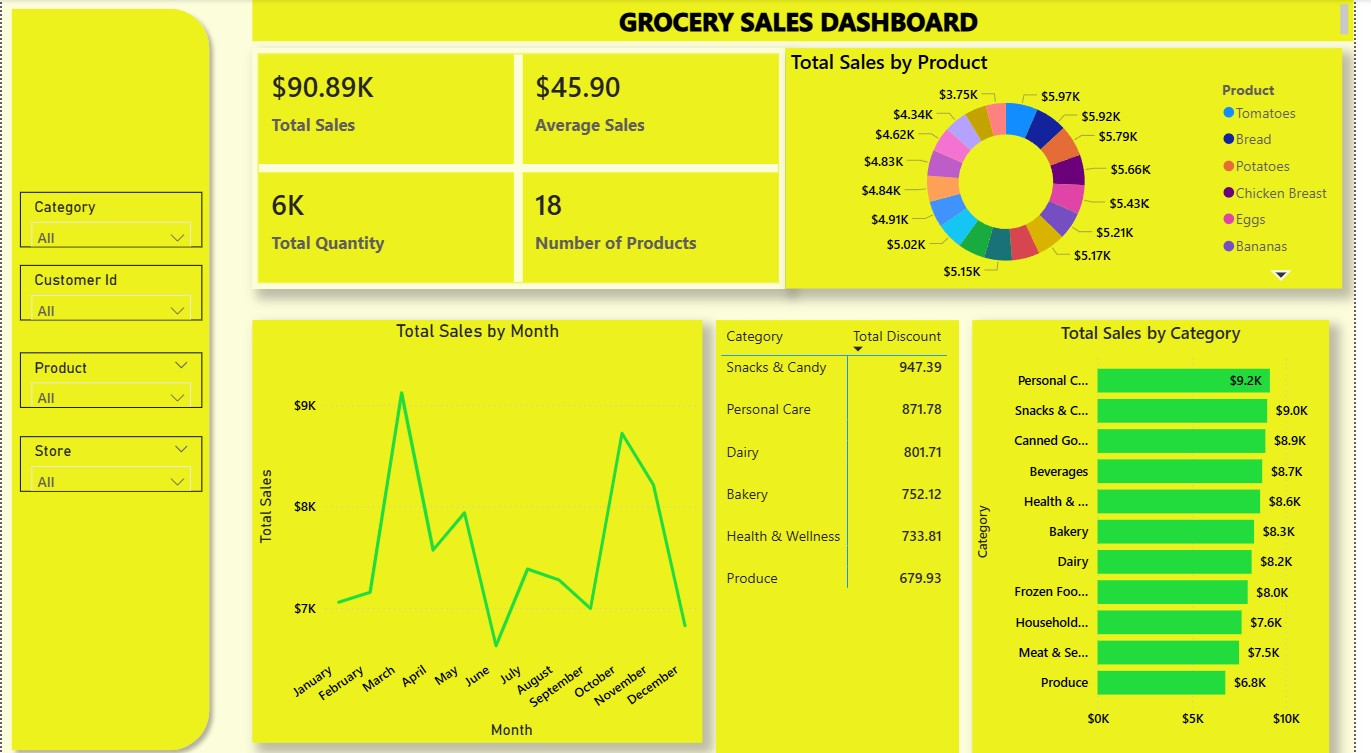

The dashboard page shown, as its layout file describes it:
{"tool":"powerbi","page":{"name":"Page 1","canvas":[1280,720],"ordinal":0},"visuals":[{"type":"cardVisual","fields":{"Data":["grocery_chain_data.Total Sales","grocery_chain_data.Average Sales","grocery_chain_data.Total Quantity","grocery_chain_data.Number of Products"]},"box":[237.3,46.6,505.2,228.2],"z":0},{"type":"textbox","box":[237.3,0,1042.3,39.7],"z":1000},{"type":"lineChart","fields":{"Y":["grocery_chain_data.Total Sales"],"Category":["grocery_chain_data.Transaction Date.Variation.Date Hierarchy.Month"]},"box":[237.3,304.3,426.9,400.8],"z":2000},{"type":"clusteredBarChart","fields":{"Category":["grocery_chain_data.Category"],"Y":["grocery_chain_data.Total Sales"]},"box":[919.6,304.3,337.2,415.5],"z":3000},{"type":"donutChart","fields":{"Y":["grocery_chain_data.Total Sales"],"Category":["grocery_chain_data.Product"]},"box":[742.5,46.6,526.8,228.2],"z":4000},{"type":"shape","box":[0,0,205.5,721],"z":5000},{"type":"pivotTable","fields":{"Rows":["grocery_chain_data.Category"],"Values":["grocery_chain_data.Total Discount"]},"box":[676.7,304.3,230.5,415.5],"z":6000},{"type":"slicer","fields":{"Values":["grocery_chain_data.Category"]},"box":[17,182.8,172.6,52.2],"z":6001},{"type":"slicer","fields":{"Values":["grocery_chain_data.Customer Id"]},"box":[17,252.1,172.6,52.2],"z":6002},{"type":"slicer","fields":{"Values":["grocery_chain_data.Product"]},"box":[17,334.9,172.6,52.2],"z":6003},{"type":"slicer","fields":{"Values":["grocery_chain_data.Store"]},"box":[17,414.4,172.6,52.2],"z":6004}]}

Visuals, with their boxes in screenshot pixels (x1, y1, x2, y2), scaled from the page's 1280x720 canvas onto the 1371x753 screenshot:
cardVisual - grocery_chain_data.Total Sales x grocery_chain_data.Average Sales: <box>254,49,795,287</box>
textbox: <box>254,0,1370,42</box>
lineChart - grocery_chain_data.Total Sales x grocery_chain_data.Transaction Date.Variation.Date Hierarchy.Month: <box>254,318,711,737</box>
clusteredBarChart - grocery_chain_data.Category x grocery_chain_data.Total Sales: <box>985,318,1346,752</box>
donutChart - grocery_chain_data.Total Sales x grocery_chain_data.Product: <box>795,49,1360,287</box>
shape: <box>0,0,220,752</box>
pivotTable - grocery_chain_data.Category x grocery_chain_data.Total Discount: <box>725,318,972,752</box>
slicer - grocery_chain_data.Category: <box>18,191,203,246</box>
slicer - grocery_chain_data.Customer Id: <box>18,264,203,318</box>
slicer - grocery_chain_data.Product: <box>18,350,203,405</box>
slicer - grocery_chain_data.Store: <box>18,433,203,488</box>
